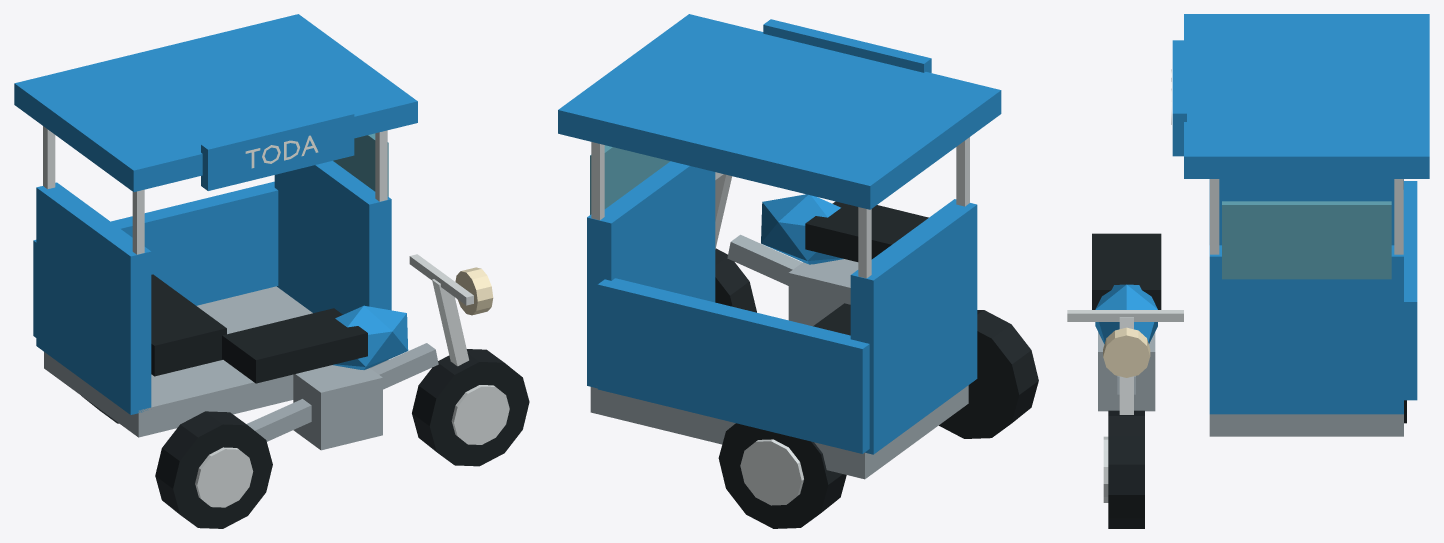
Rendered from TR_Tricycle_blue.glb.
The picture shows the model from 3 angles, left to right: view 1: azimuth 30°, elevation 25°; view 2: azimuth 150°, elevation 25°; view 3: azimuth 270°, elevation 25°; orthographic projection. The views are drawn at different scales.
Parts seen in each view (by area): view 1: TR_Tricycle_blue; view 2: TR_Tricycle_blue; view 3: TR_Tricycle_blue.
Part boxes in pixels (bbox=[...]): TR_Tricycle_blue: bbox=[14, 14, 529, 528]; TR_Tricycle_blue: bbox=[558, 14, 1038, 528]; TR_Tricycle_blue: bbox=[1067, 14, 1429, 528].
Size of the model in its own units: 2.08 by 1.96 by 1.77.
